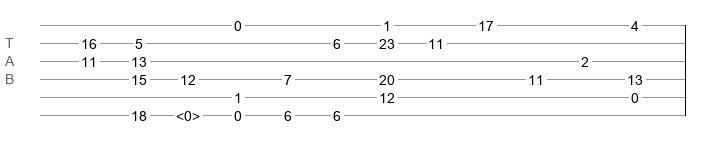0: (234, 18, 242, 28), (234, 108, 242, 118), (631, 90, 639, 100)
1: (234, 90, 242, 100), (383, 18, 391, 28)
11: (81, 54, 97, 64), (428, 36, 444, 46), (528, 72, 544, 82)
12: (180, 72, 196, 82), (379, 90, 395, 100)
13: (131, 54, 147, 64), (627, 72, 643, 82)
15: (131, 72, 147, 82)
16: (81, 36, 97, 46)
17: (478, 18, 494, 28)
18: (131, 108, 147, 118)
2: (581, 54, 589, 64)
20: (379, 72, 395, 82)
23: (379, 36, 395, 46)
4: (631, 18, 639, 28)
5: (135, 36, 143, 46)
6: (284, 108, 292, 118), (333, 36, 341, 46), (333, 108, 341, 118)
7: (284, 72, 292, 82)
harmonic: (176, 108, 200, 118)
